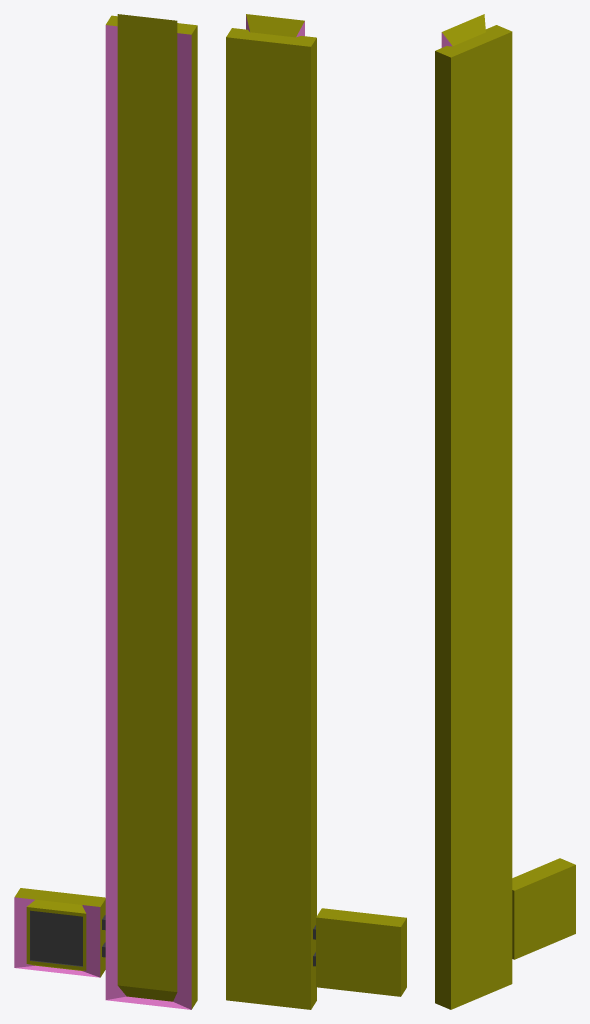
The model's file is LeverAndItemPanel_PianoRoom.fbx.
The picture shows the model from 3 angles, left to right: view 1: azimuth 30°, elevation 25°; view 2: azimuth 210°, elevation 25°; view 3: azimuth 270°, elevation 25°; orthographic projection. The views are drawn at different scales.
Visible parts, largest first — view 1: LeverAndItemPanel_PianoRoom; view 2: LeverAndItemPanel_PianoRoom; view 3: LeverAndItemPanel_PianoRoom.
Part boxes in pixels (x1,y1,x2,y2): LeverAndItemPanel_PianoRoom: [14, 14, 197, 1009]; LeverAndItemPanel_PianoRoom: [226, 14, 406, 1009]; LeverAndItemPanel_PianoRoom: [435, 14, 575, 1009].
Size of the model in its own units: 246 by 1827 by 241.
